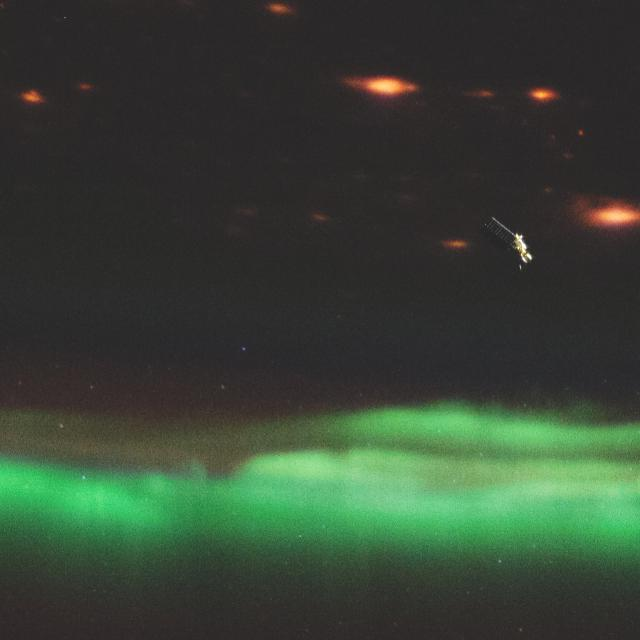satellite: (460, 197, 570, 289)
